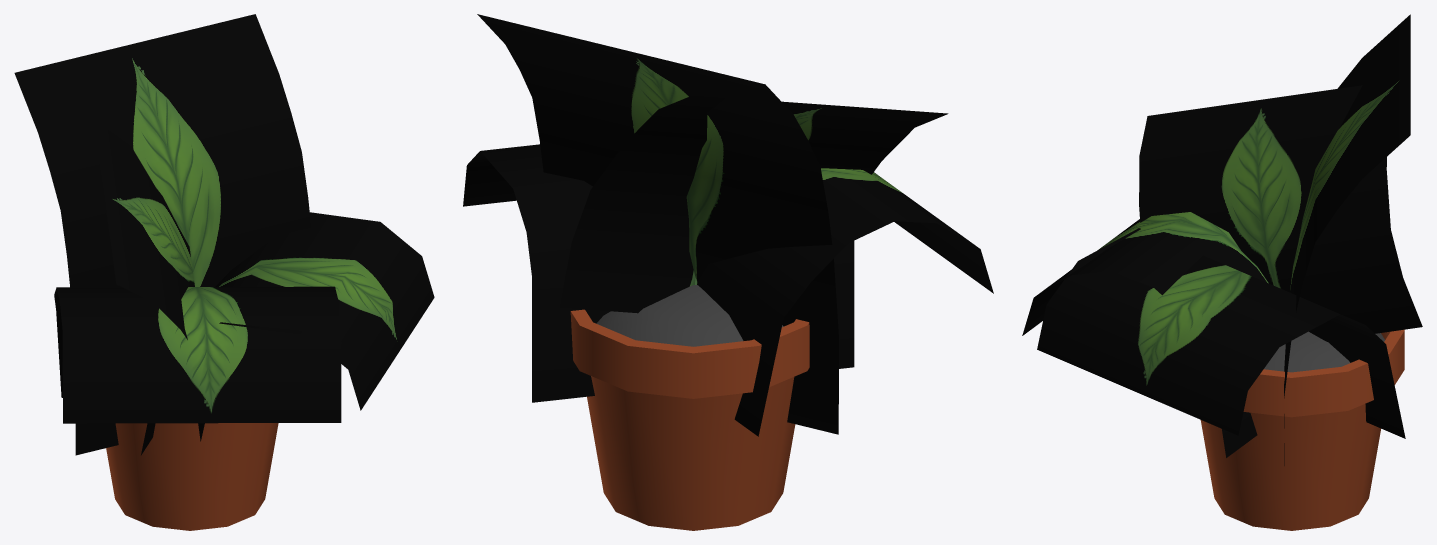
The model's file is flowerpot.fbx.
The picture shows the model from 3 angles, left to right: view 1: azimuth 30°, elevation 25°; view 2: azimuth 150°, elevation 25°; view 3: azimuth 270°, elevation 25°; orthographic projection. The views are drawn at different scales.
Parts seen in each view (by area): view 1: Plane.003, Cylinder; view 2: Plane.003, Cylinder; view 3: Plane.003, Cylinder.
Boxes of the visible parts, <box> form: Plane.003: <box>14,14,434,455</box>; Cylinder: <box>106,423,278,530</box>; Plane.003: <box>463,14,993,436</box>; Cylinder: <box>570,285,809,530</box>; Plane.003: <box>1022,14,1422,465</box>; Cylinder: <box>1200,329,1404,530</box>.
Size of the model in its own units: 485 by 470 by 401.
